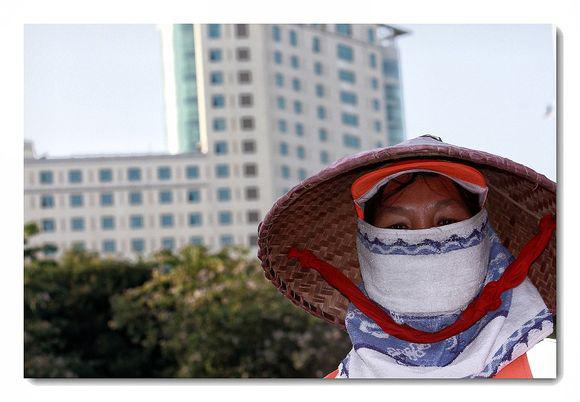OK: (367, 190, 486, 309)
